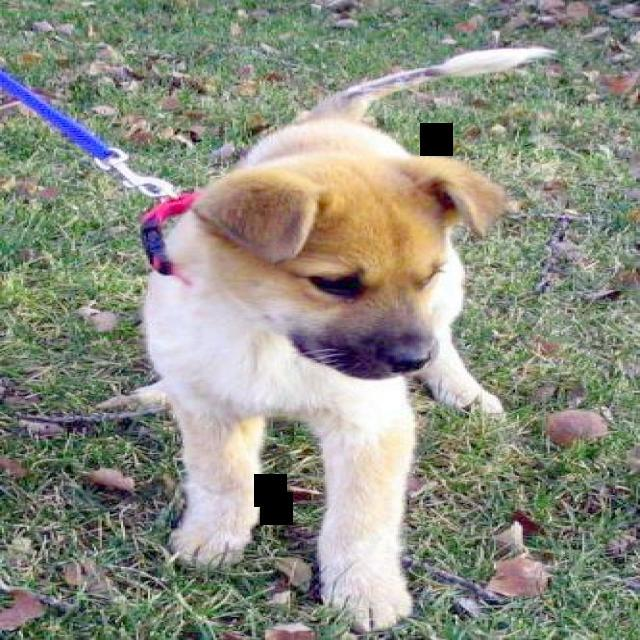puppy-dog: (146, 54, 557, 617)
